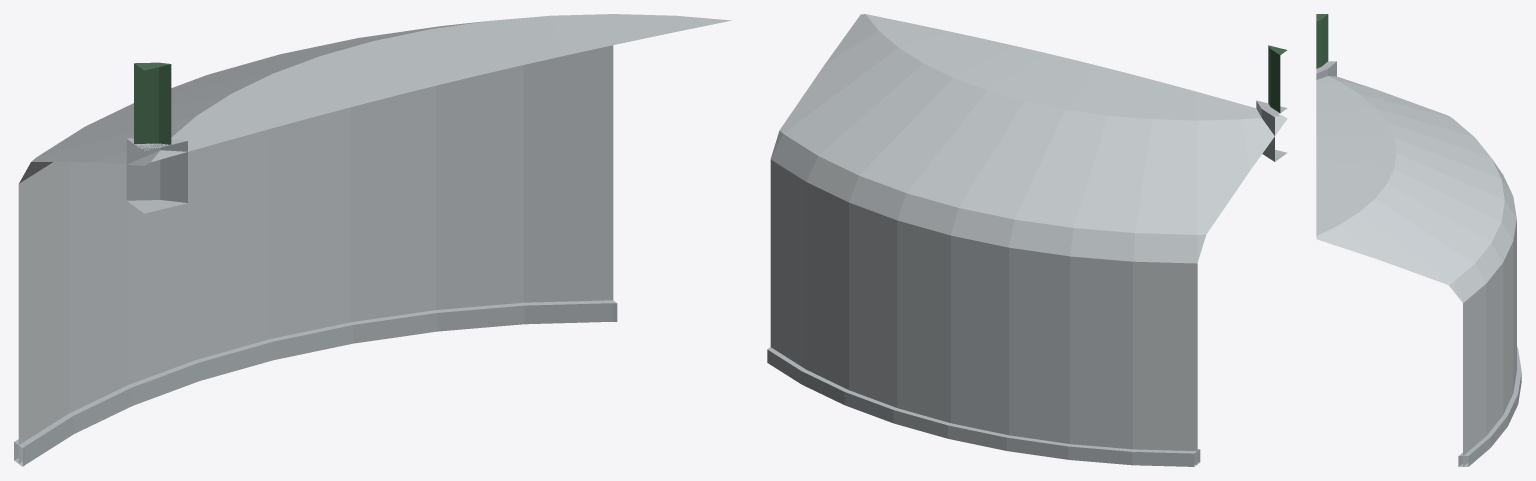
The model's file is cell_28.obj.
3 views of the same model, side by side, from view 1: azimuth 30°, elevation 25°; view 2: azimuth 150°, elevation 25°; view 3: azimuth 270°, elevation 25° (orthographic). The views are drawn at different scales.
Bounding box in the file's own units: 1 × 0.78 × 0.512.
